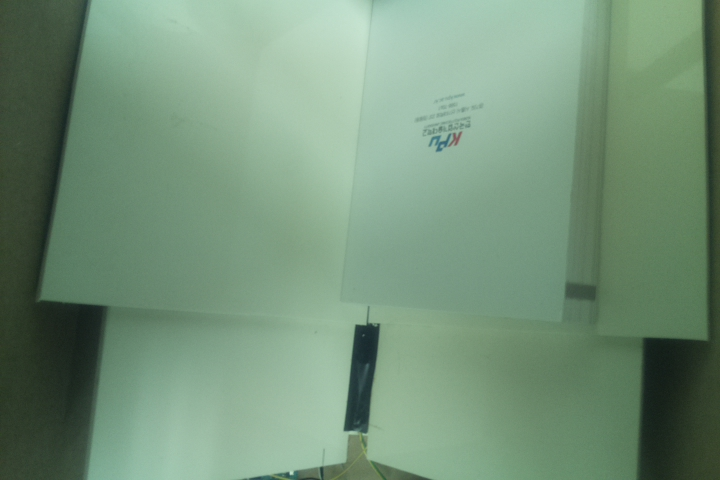book: (343, 1, 608, 326)
